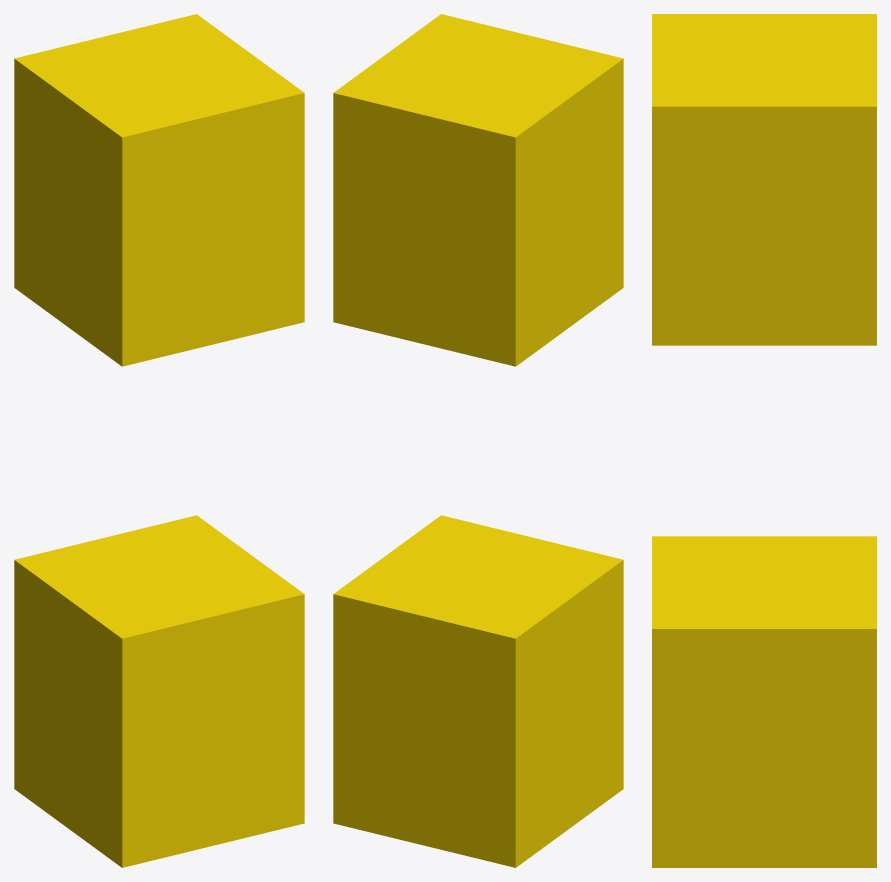
The model's file is doublepoint.DAE.
3 renders of one model, left to right at view 1: azimuth 30°, elevation 25°; view 2: azimuth 150°, elevation 25°; view 3: azimuth 270°, elevation 25°, orthographic. The views are drawn at different scales.
Visible parts, largest first — view 1: Text001; view 2: Text001; view 3: Text001.
Part boxes in pixels (x1,y1,x2,y2): Text001: (14,14,304,867); Text001: (333,14,623,867); Text001: (652,14,876,867).
Bounding box in the file's own units: 0.5 × 0.512 × 1.91.
Materials: 1 (1 with a texture image).
